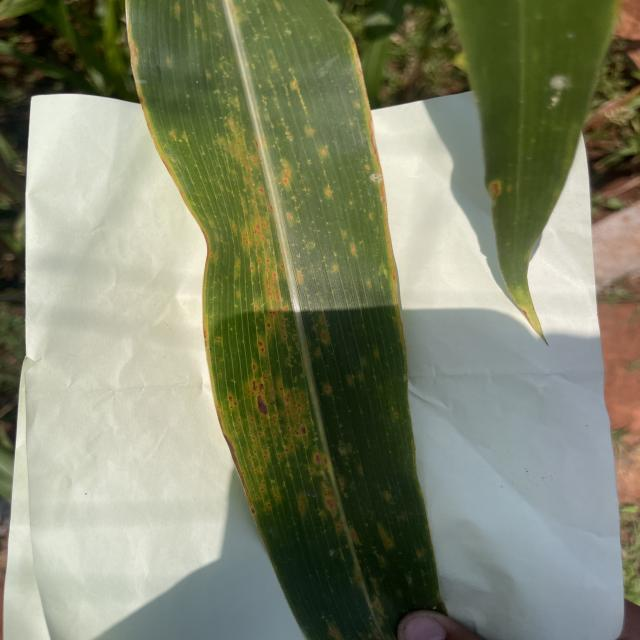millet_rust: (120, 0, 450, 606)
